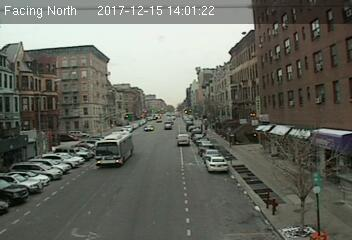bus: (95, 131, 134, 167)
car: (205, 155, 228, 173), (176, 134, 191, 145)
